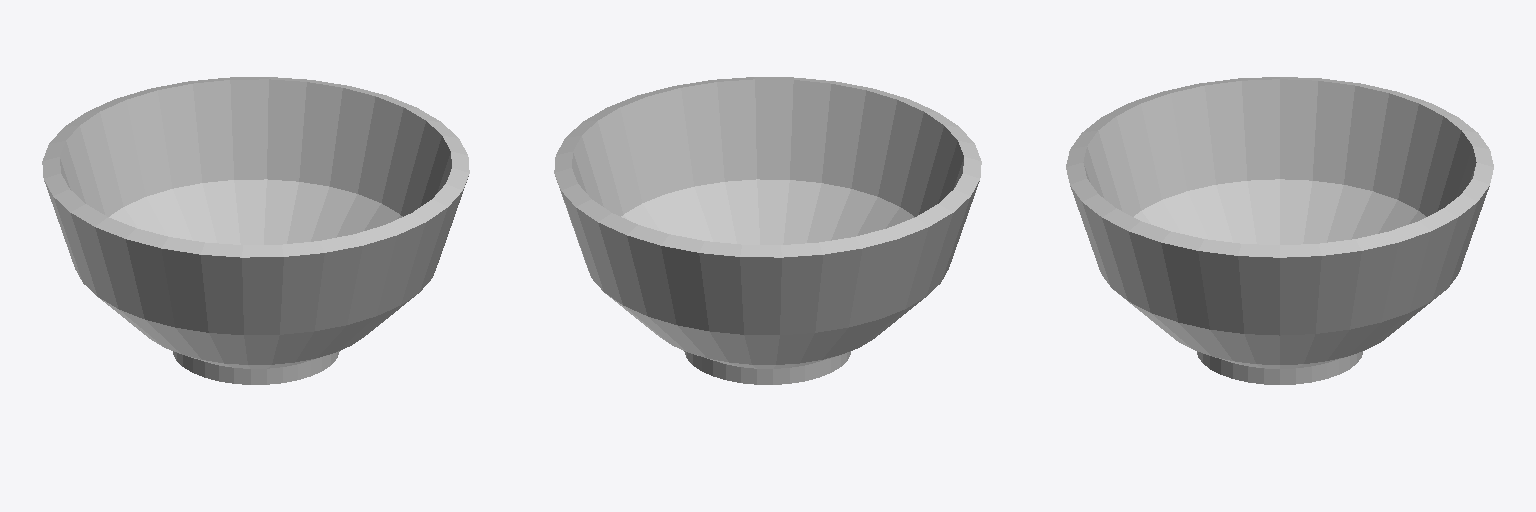
File: Plate.obj
The picture shows the model from 3 angles: view 1: azimuth 30°, elevation 25°; view 2: azimuth 150°, elevation 25°; view 3: azimuth 270°, elevation 25°; orthographic projection.
Parts seen in each view (by area): view 1: Bowl_Plane.002; view 2: Bowl_Plane.002; view 3: Bowl_Plane.002.
Part boxes in pixels (x1,y1,x2,y2): Bowl_Plane.002: (42, 77, 469, 384); Bowl_Plane.002: (554, 77, 981, 384); Bowl_Plane.002: (1066, 77, 1493, 384).
Size of the model in its own units: 1.61 by 0.7775 by 1.61.